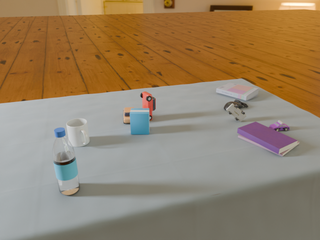book: (237, 122, 297, 154), (216, 83, 259, 100)
bottle: (52, 128, 80, 195)
box: (130, 108, 150, 134)
cup: (67, 119, 89, 147)
mouse: (224, 100, 248, 110)
toy_car: (140, 92, 156, 121), (226, 104, 246, 122), (269, 121, 290, 131), (123, 107, 134, 123)
